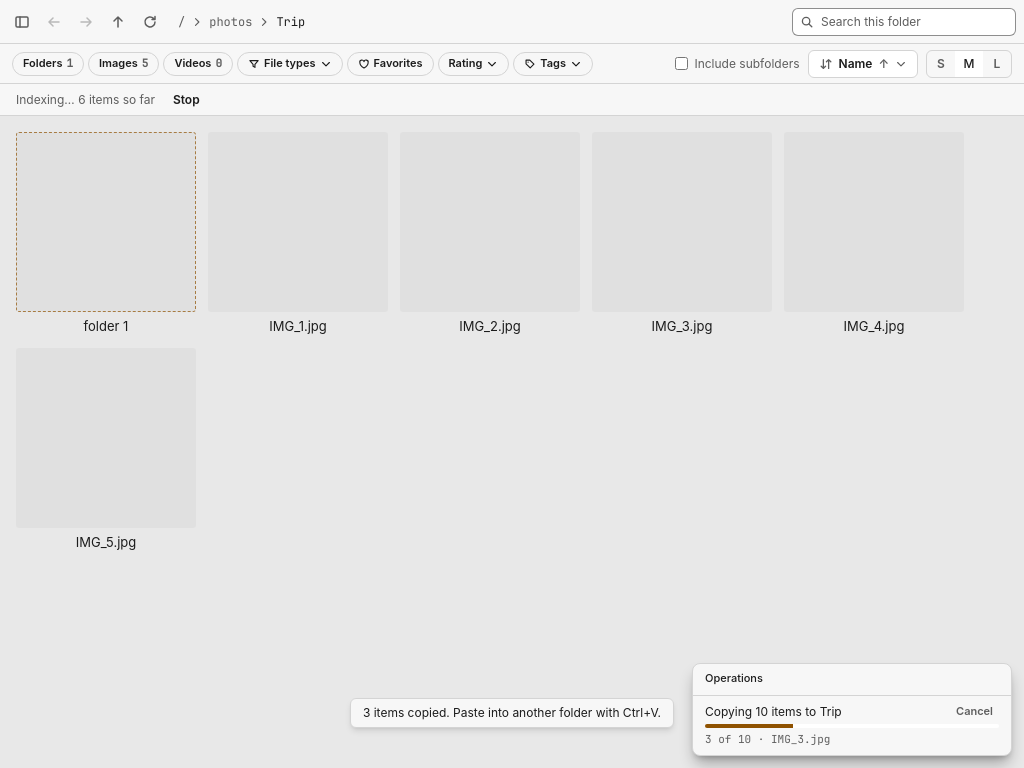
Scenario: progress panel › follows job.progress, cancels and shows failed items
The width and height of the screenshot is (1024, 768).
Check: the text "IMG_2.jpg" is shown, box [459,318,521,334]
Check: the list item with test id "job" shows "Copying 10 items to Trip", box [705,704,842,719]
Click the button "Cancel" at (974,712), box [950,704,999,719]
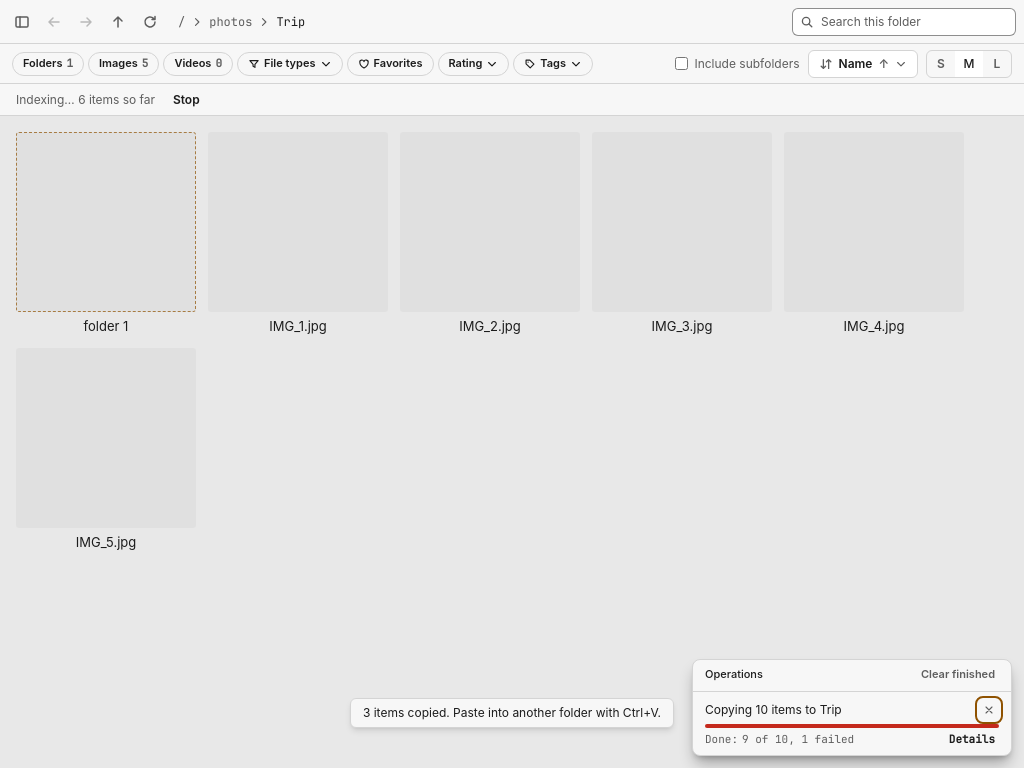
Check: the list item with test id "job" has attribute data-state="completed", box [693,692,1011,755]
Click the button "Details" at (972,739), box [945,732,999,747]
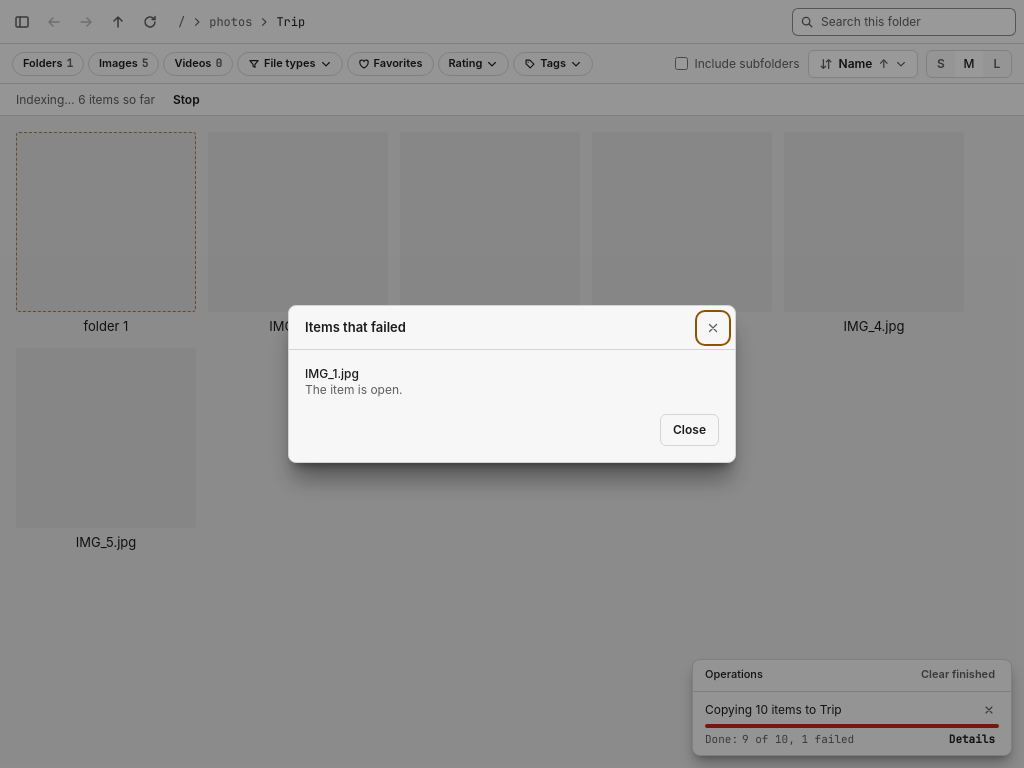
Check: the list with test id "job-errors" shows "IMG_1.jpg", box [305,366,359,381]
Check: the list with test id "job-errors" shows "The item is open.", box [305,382,402,397]
